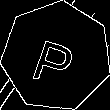P_N: (30, 26, 82, 87)
